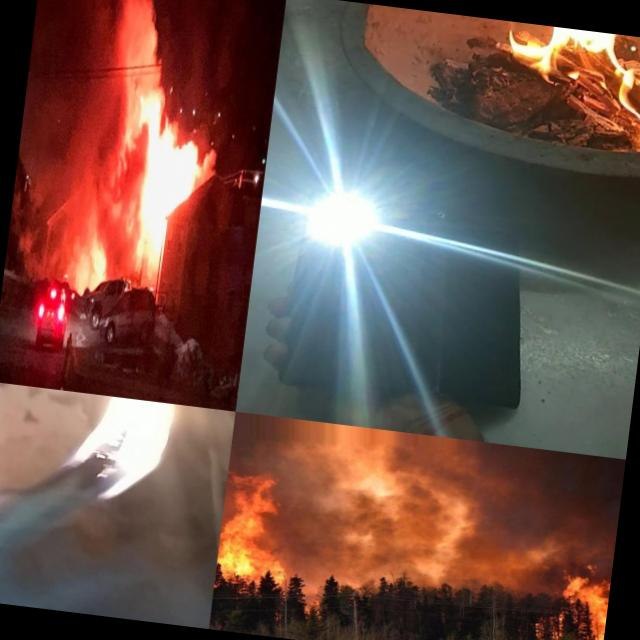fire: (480, 18, 640, 139), (40, 389, 188, 509), (132, 85, 204, 274), (216, 476, 296, 582), (77, 237, 110, 292), (138, 84, 154, 134)
smoke: (266, 417, 571, 596), (65, 76, 130, 240), (70, 0, 173, 86), (107, 132, 148, 282), (16, 230, 83, 292), (192, 140, 220, 188)
